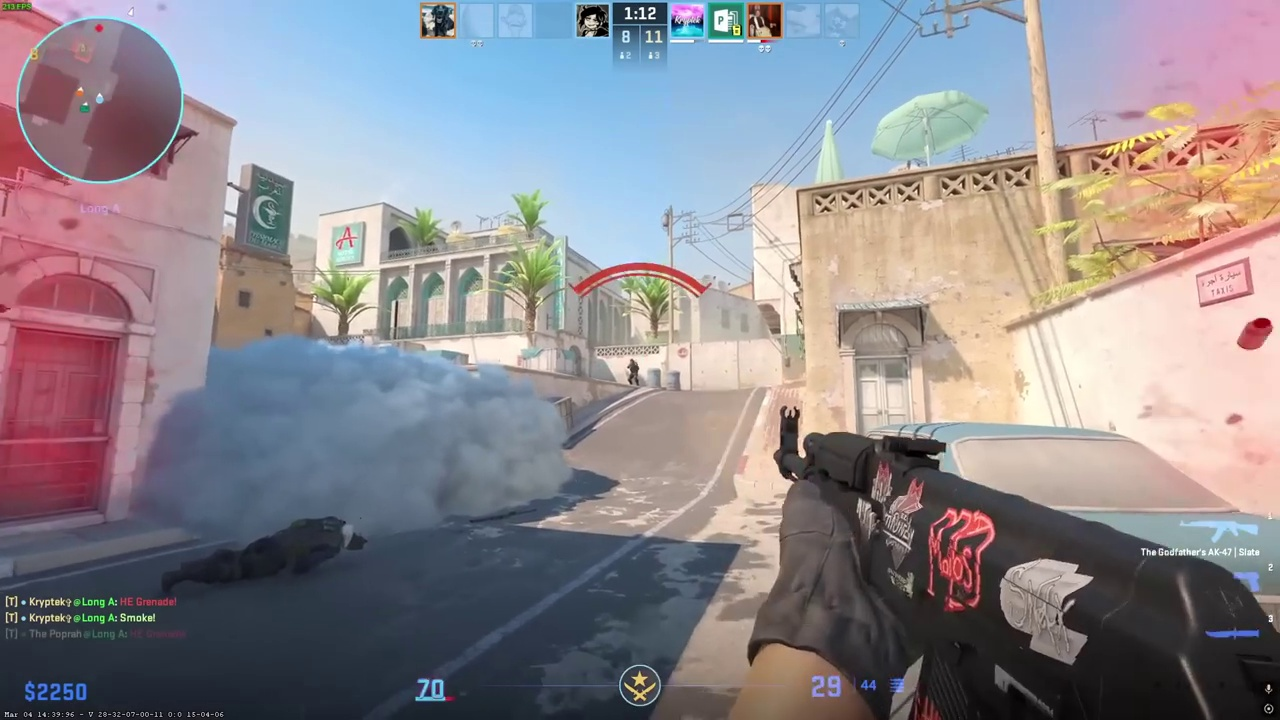CT: (627, 359, 639, 386)
